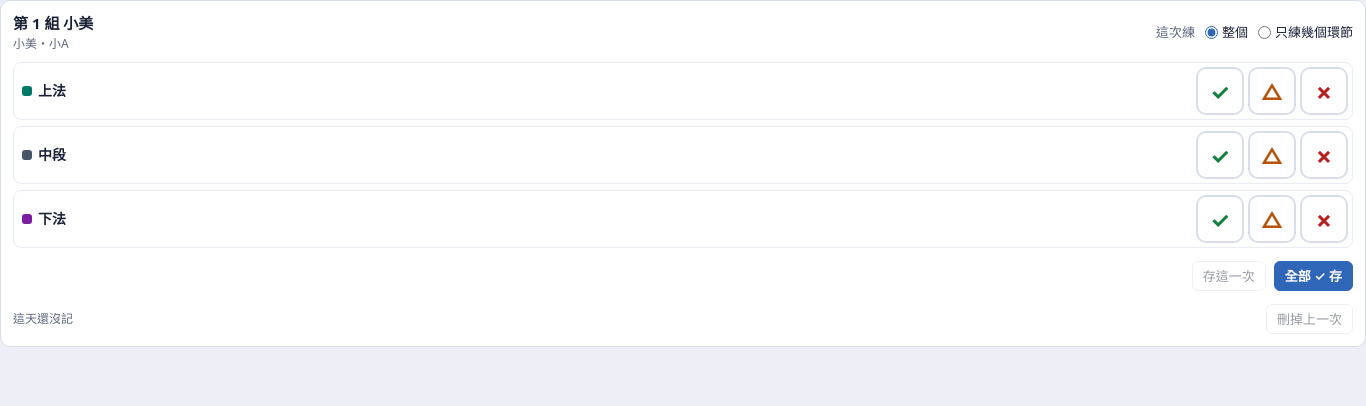
記錄頁的卡 › 「整個」照順序點：上法 ✓ 不提醒跳過；只點下法才提醒
Expected: the text "跳過了前面的環節" is not shown
Click the button "✓" in the row of "上法": (1220, 91) [1196,67,1244,115]
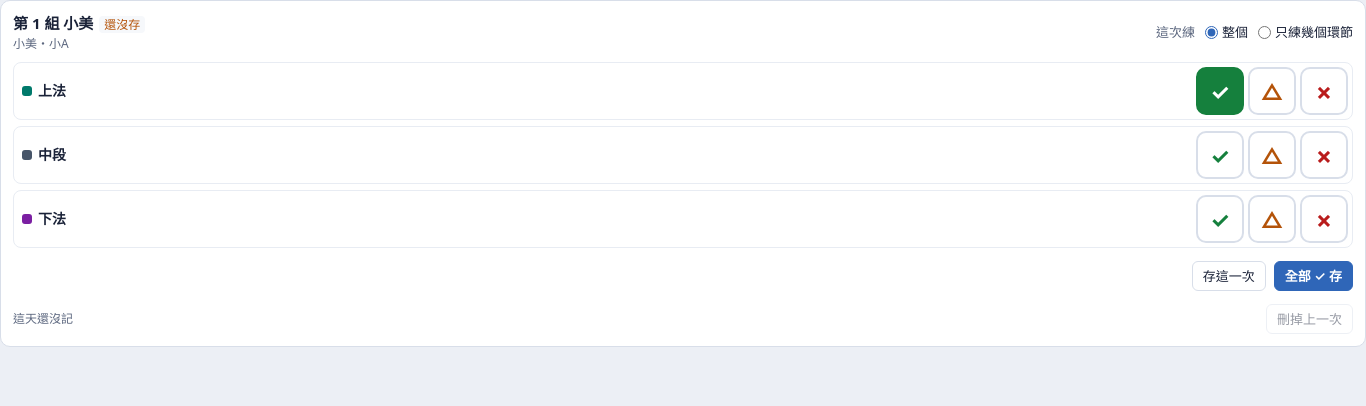
Expected: the text "跳過了前面的環節" is not shown
Click the button "✓" in the row of "上法": (1220, 91) [1196,67,1244,115]
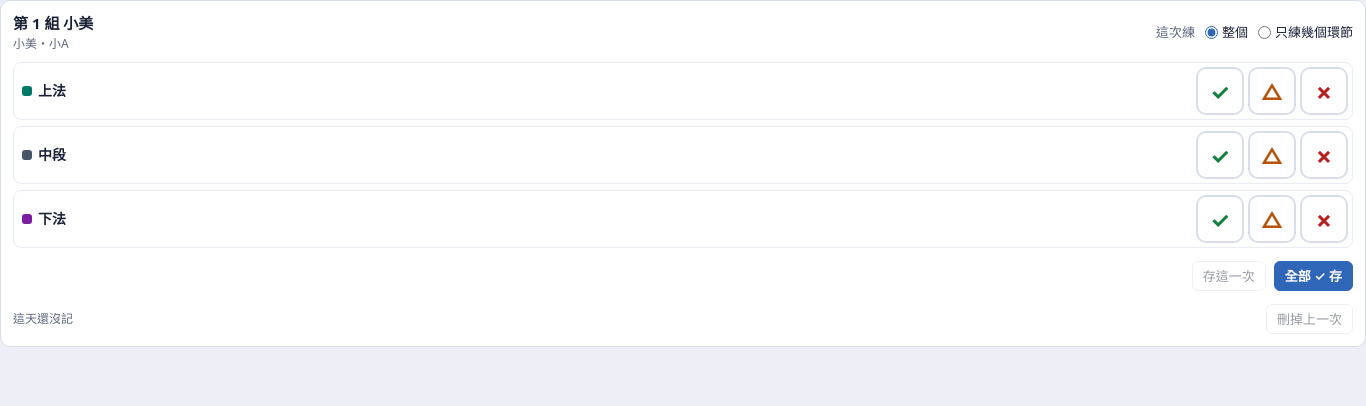
Expected: the text "跳過了前面的環節" is not shown
Click the button "✓" in the row of "下法": (1220, 219) [1196,195,1244,243]
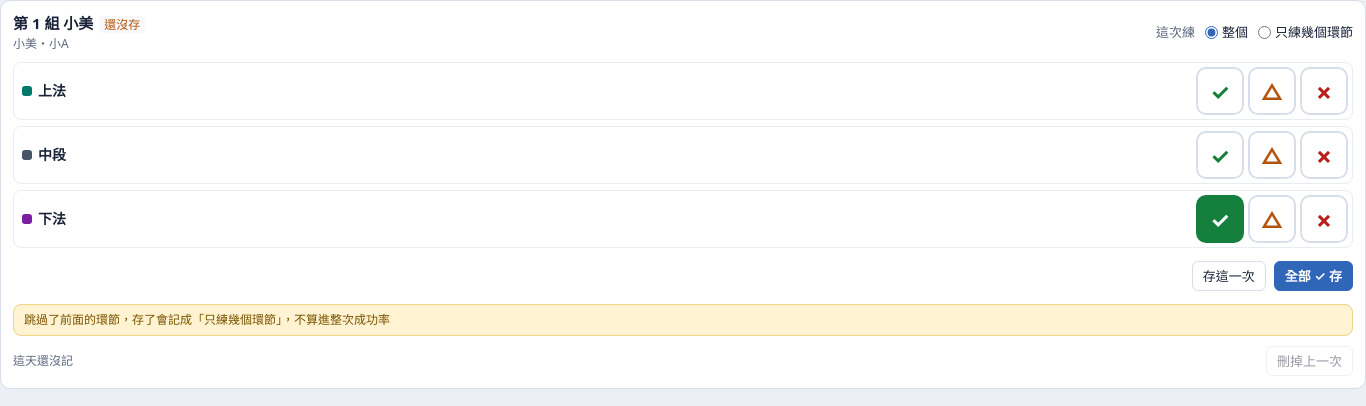
Now the text "跳過了前面的環節，存了會記成「只練幾個環節」，不算進整次成功率" is shown, box [13,304,1353,336]
